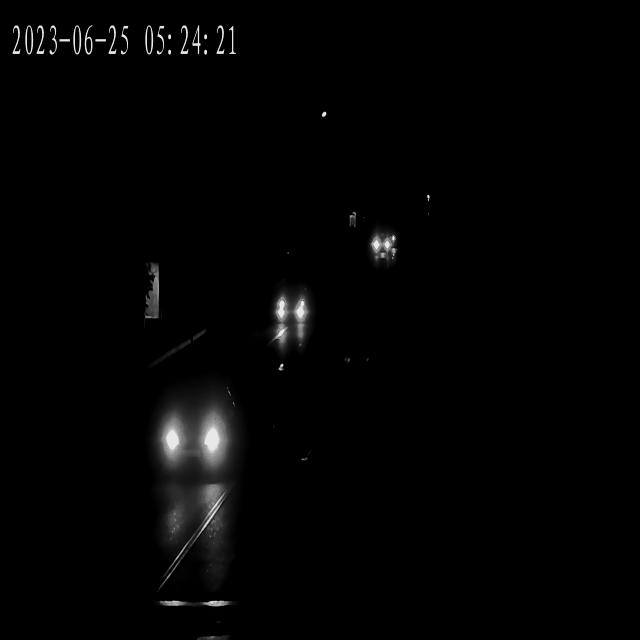Car: (155, 384, 240, 484), (268, 272, 317, 337), (368, 224, 394, 265)
